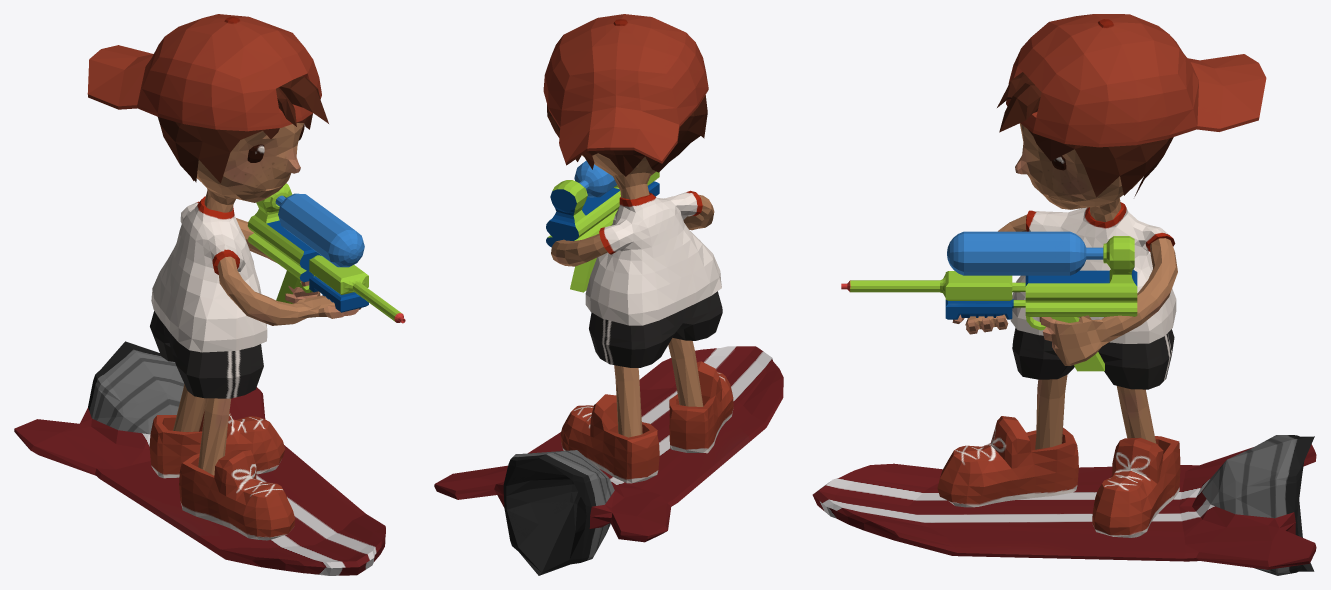
Rendered from boi.fbx.
3 renders of one model, left to right at view 1: azimuth 30°, elevation 25°; view 2: azimuth 150°, elevation 25°; view 3: azimuth 270°, elevation 25°, orthographic. The views are drawn at different scales.
Parts seen in each view (by area): view 1: body, hoverboard, hat, gun, hair; view 2: body, hoverboard, hat, gun, hair; view 3: body, hoverboard, hat, gun, hair.
Boxes of the visible parts, box(x1,y1,x2,y2) form: body: box(149, 123, 361, 540); hoverboard: box(14, 341, 385, 575); hat: box(87, 14, 321, 131); gun: box(247, 183, 405, 323); hair: box(158, 75, 328, 183); body: box(551, 153, 733, 483); hoverboard: box(434, 346, 783, 575); hat: box(543, 14, 708, 165); gun: box(546, 160, 659, 292); hair: box(547, 95, 707, 176); body: box(937, 123, 1180, 537); hoverboard: box(812, 435, 1316, 575); hat: box(1006, 14, 1266, 147); gun: box(841, 231, 1137, 371); hair: box(997, 72, 1173, 197).
Size of the model in its own units: 77.44 by 165 by 135.
